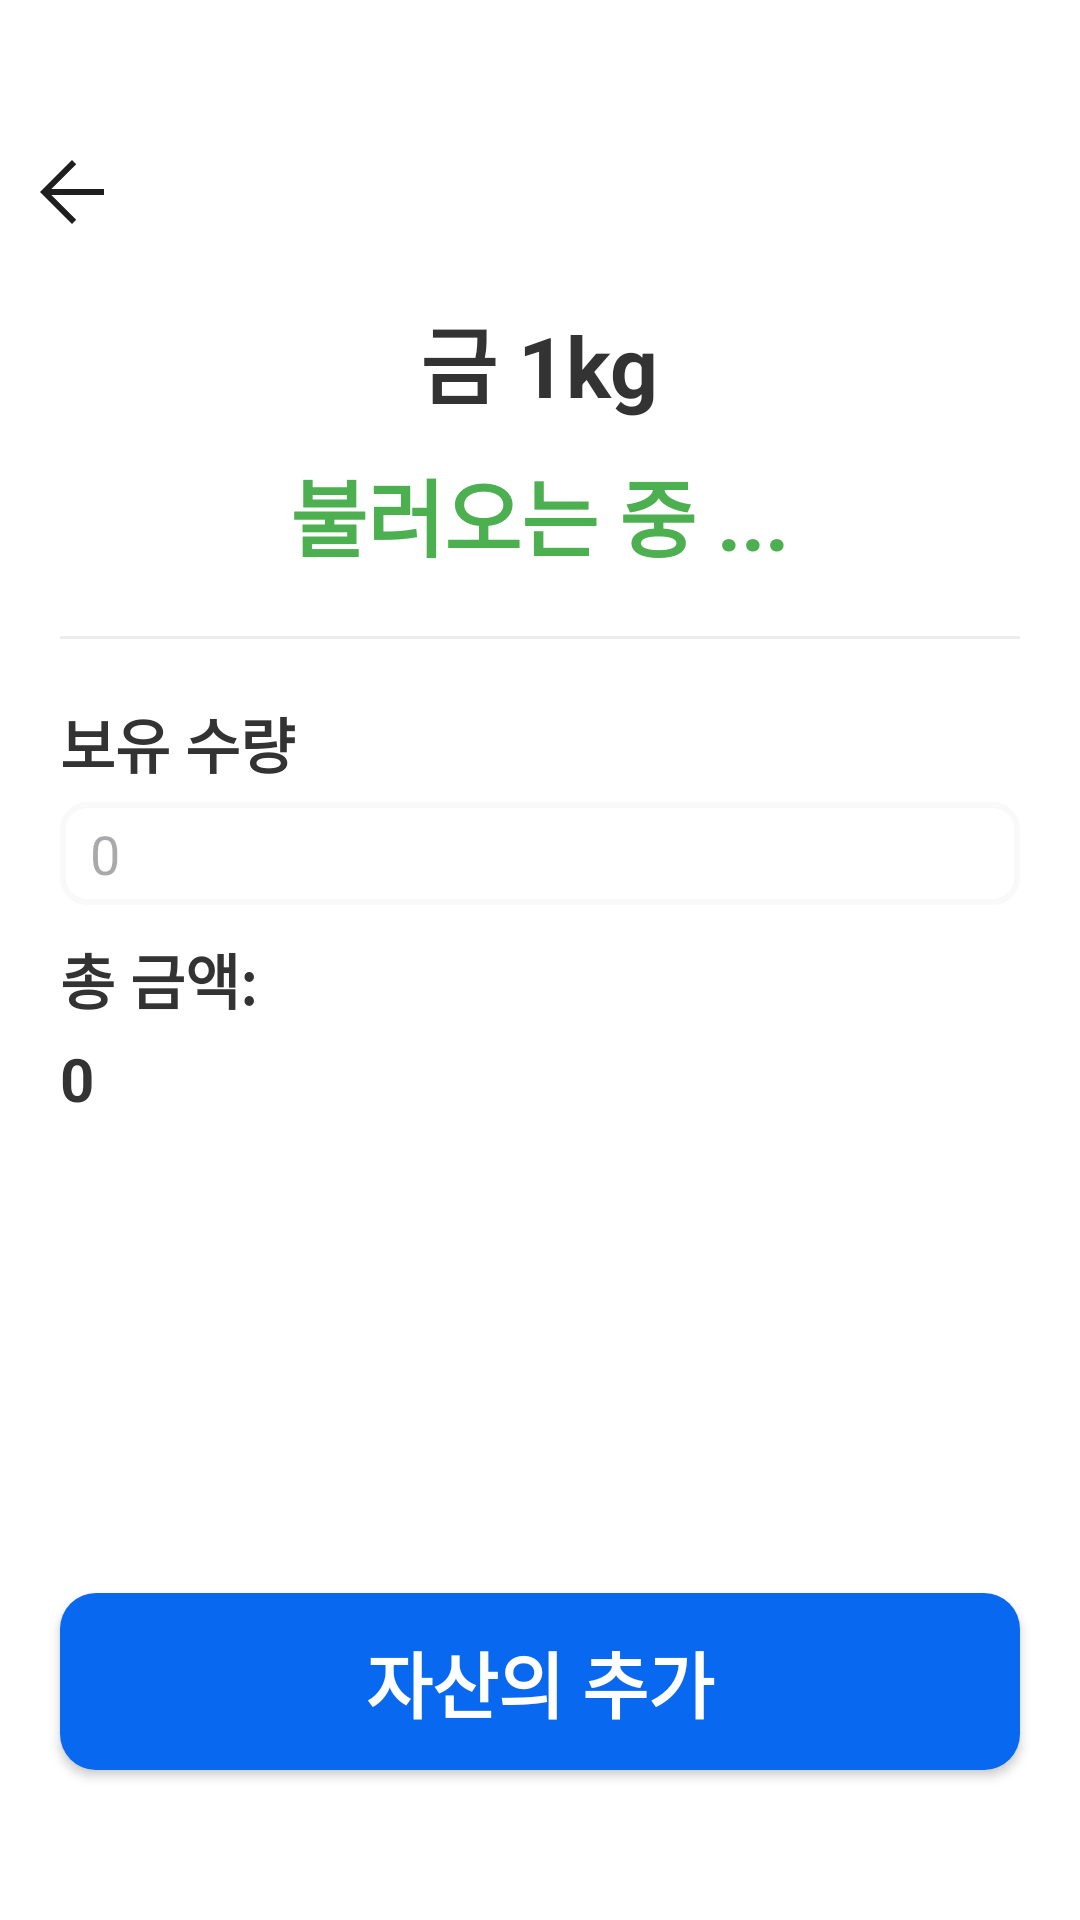

Where icons sit on this 1080*1920 app screen, as (x1, y1, x2, y2):
back: (40, 160, 104, 224)
